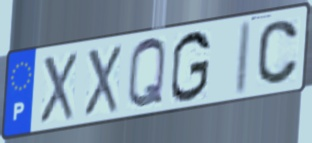C: (255, 18, 300, 88)
G: (168, 29, 213, 105)
I: (232, 18, 254, 98)
Q: (125, 36, 168, 113)
X: (82, 43, 123, 119), (38, 51, 79, 126)
